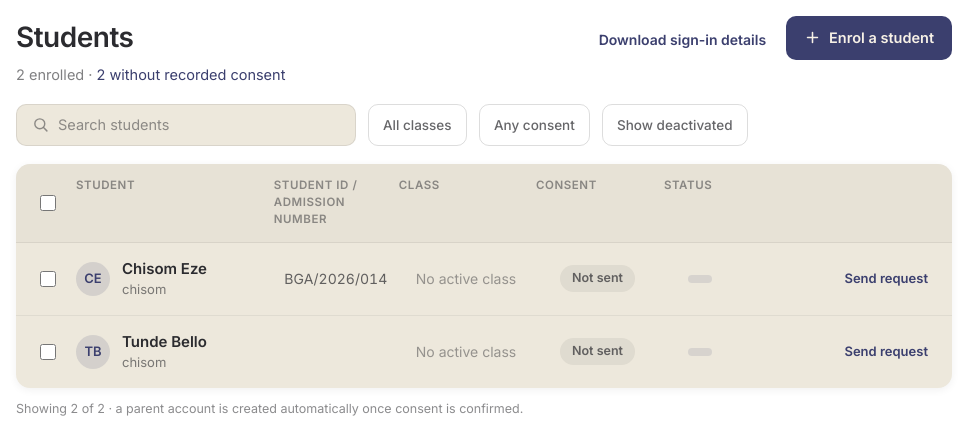
Test: the Student ID column › finds a child by their Student ID
The image size is (969, 433).
Expected: the text "Chisom Eze" is shown, [122,258,207,280]
Type "2026/014" into the search field labelled "Search students" at (199,125), box [58,114,340,136]
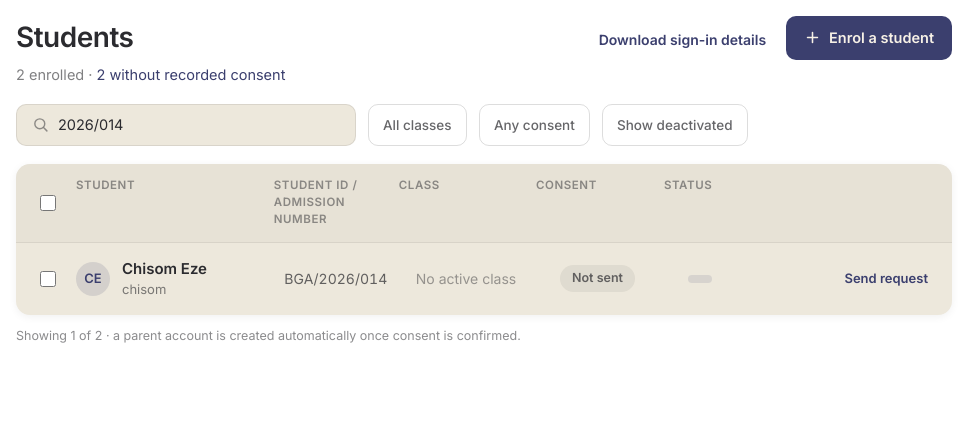
Expected: the text "Chisom Eze" is shown, [122,258,207,280]
Now the button "Tunde Bello" is gone
